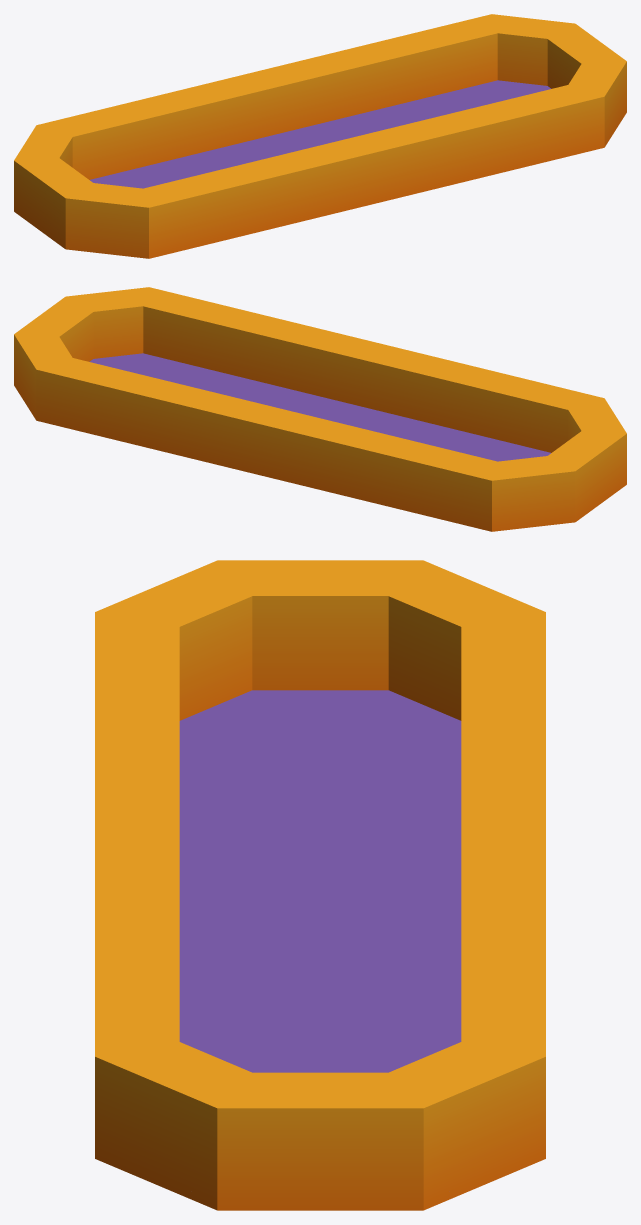
File: Gound_Socket_01_v02.fbx
3 views of the same model, one above another, from view 1: azimuth 30°, elevation 25°; view 2: azimuth 150°, elevation 25°; view 3: azimuth 270°, elevation 25° (orthographic). The views are drawn at different scales.
Visible parts, largest first — view 1: Obstacle_Gound_Socket_01_v02; view 2: Obstacle_Gound_Socket_01_v02; view 3: Obstacle_Gound_Socket_01_v02.
Part boxes in pixels (x1,y1,x2,y2): Obstacle_Gound_Socket_01_v02: [14, 14, 626, 258]; Obstacle_Gound_Socket_01_v02: [14, 287, 626, 531]; Obstacle_Gound_Socket_01_v02: [95, 560, 545, 1210].
Size of the model in its own units: 57.5 by 5 by 20.
Materials: 1 (1 with a texture image).
